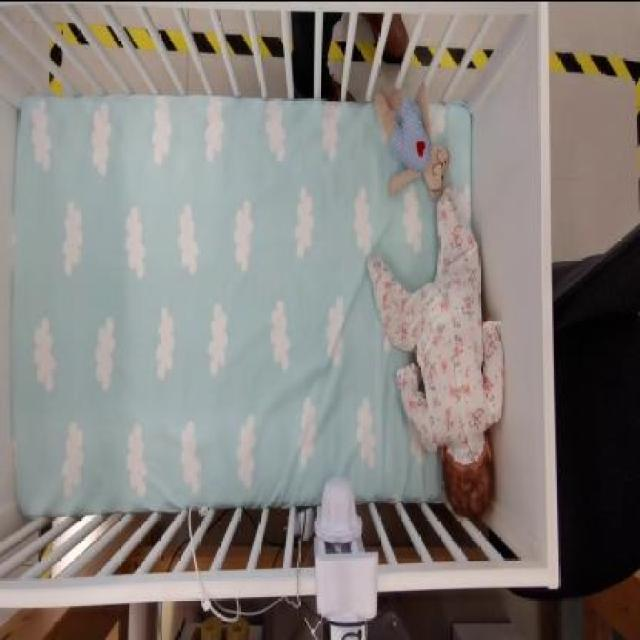baby: (366, 185, 509, 522)
